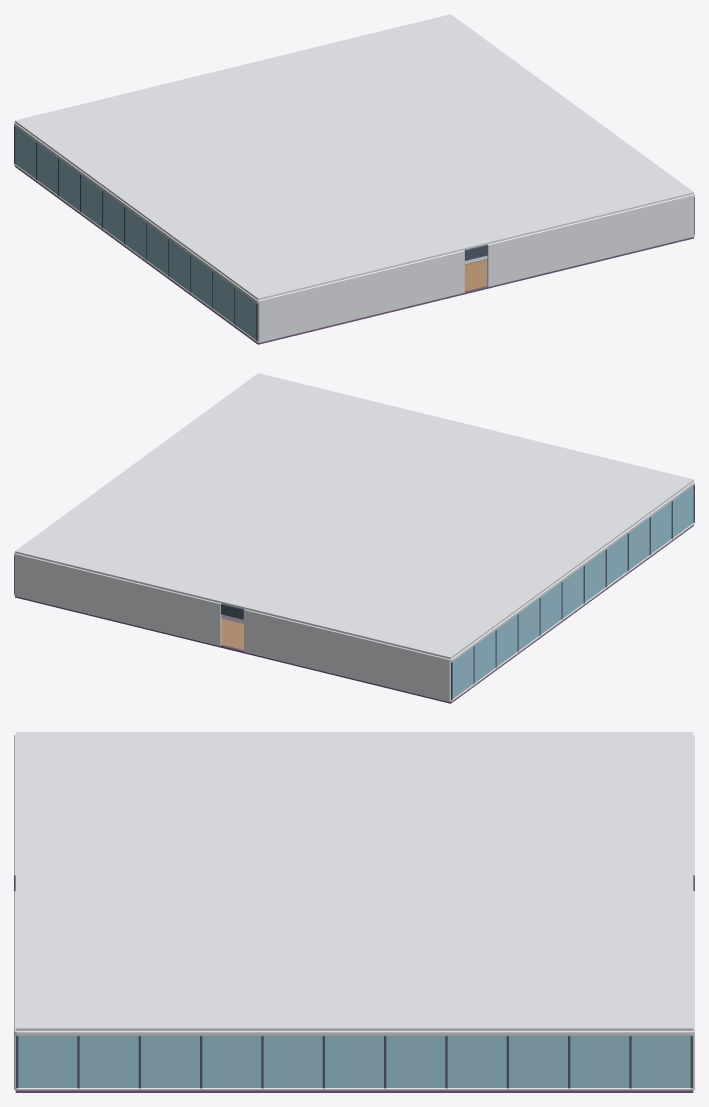
File: cabin-deck-seven.glb
3 renders of one model, top to bottom at view 1: azimuth 30°, elevation 25°; view 2: azimuth 150°, elevation 25°; view 3: azimuth 270°, elevation 25°, orthographic. The views are drawn at different scales.
Parts seen in each view (by area): view 1: CM_BULKHEAD, CM_GLASS, CM_CARPET, CM_TRIM, CM_WOOD; view 2: CM_BULKHEAD, CM_GLASS, CM_CARPET, CM_TRIM, CM_WOOD; view 3: CM_BULKHEAD, CM_GLASS, CM_CARPET, CM_TRIM.
Boxes of the visible parts, x1=… form: CM_BULKHEAD: x1=14, y1=14, x2=694, y2=342; CM_GLASS: x1=15, y1=127, x2=256, y2=339; CM_CARPET: x1=15, y1=166, x2=693, y2=344; CM_TRIM: x1=14, y1=126, x2=694, y2=341; CM_WOOD: x1=465, y1=260, x2=487, y2=291; CM_BULKHEAD: x1=14, y1=373, x2=694, y2=701; CM_GLASS: x1=452, y1=486, x2=693, y2=698; CM_CARPET: x1=15, y1=525, x2=693, y2=703; CM_TRIM: x1=14, y1=485, x2=694, y2=700; CM_WOOD: x1=221, y1=619, x2=243, y2=650; CM_BULKHEAD: x1=14, y1=732, x2=694, y2=1090; CM_GLASS: x1=18, y1=1036, x2=690, y2=1087; CM_CARPET: x1=15, y1=1090, x2=693, y2=1092; CM_TRIM: x1=14, y1=875, x2=694, y2=1088.
Bounding box in the file's own units: 30.14 × 3.04 × 29.14.
